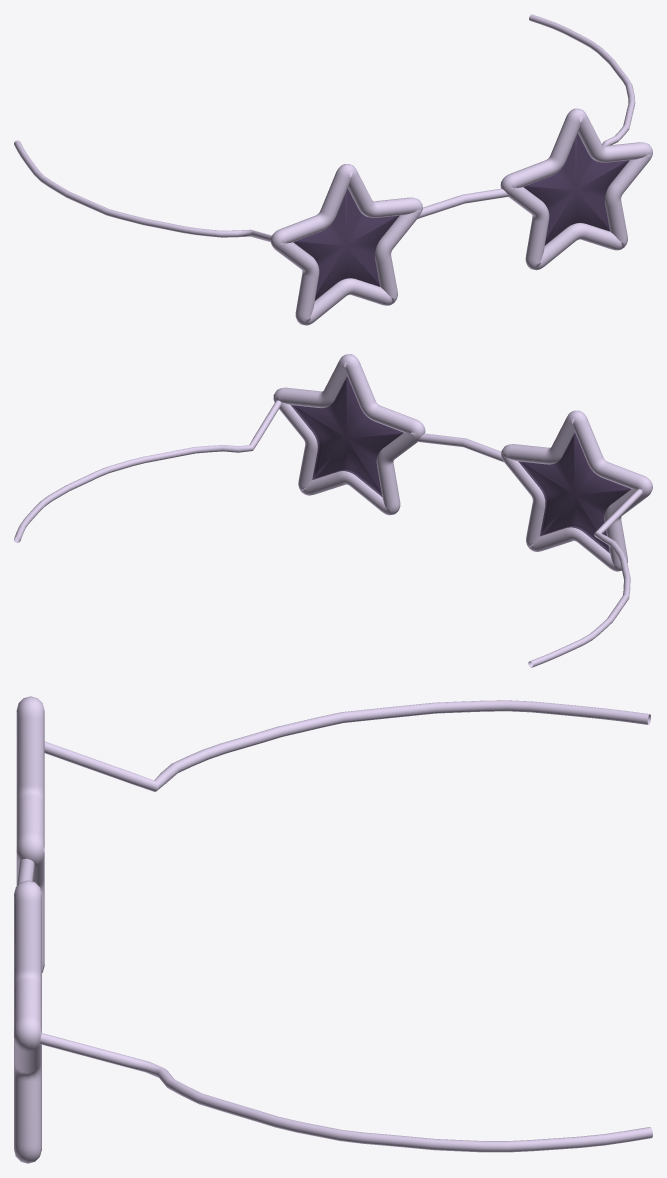
Rendered from restart_glasses_star_pig.glb.
The picture shows the model from 3 angles, top to bottom: view 1: azimuth 30°, elevation 25°; view 2: azimuth 150°, elevation 25°; view 3: azimuth 270°, elevation 25°; orthographic projection. The views are drawn at different scales.
Visible parts, largest first — view 1: Montura estrella redondeada.004, Montura estrella redondeada.005, Lente estrella continua.005, Lente estrella continua.004, Patilla envolvente.004, Patilla envolvente.005, Puente nasal redondeado.002; view 2: Montura estrella redondeada.005, Montura estrella redondeada.004, Lente estrella continua.005, Lente estrella continua.004, Patilla envolvente.005, Patilla envolvente.004, Puente nasal redondeado.002; view 3: Montura estrella redondeada.005, Patilla envolvente.005, Patilla envolvente.004, Montura estrella redondeada.004.
Part boxes in pixels (x1,y1,x2,y2): Montura estrella redondeada.004: [270, 164, 422, 325]; Montura estrella redondeada.005: [500, 108, 652, 270]; Lente estrella continua.005: [523, 133, 629, 245]; Lente estrella continua.004: [293, 188, 399, 300]; Patilla envolvente.004: [14, 140, 271, 241]; Patilla envolvente.005: [529, 14, 635, 145]; Puente nasal redondeado.002: [417, 188, 508, 218]; Montura estrella redondeada.005: [273, 354, 425, 515]; Montura estrella redondeada.004: [501, 410, 652, 571]; Lente estrella continua.005: [291, 376, 403, 496]; Lente estrella continua.004: [518, 432, 631, 553]; Patilla envolvente.005: [14, 400, 281, 542]; Patilla envolvente.004: [528, 489, 642, 667]; Puente nasal redondeado.002: [417, 433, 503, 462]; Montura estrella redondeada.005: [14, 880, 41, 1163]; Patilla envolvente.005: [40, 1033, 652, 1152]; Patilla envolvente.004: [44, 700, 650, 791]; Montura estrella redondeada.004: [16, 696, 44, 972].
Bounding box in the file's own units: 0.8333 × 0.2157 × 0.5049.
